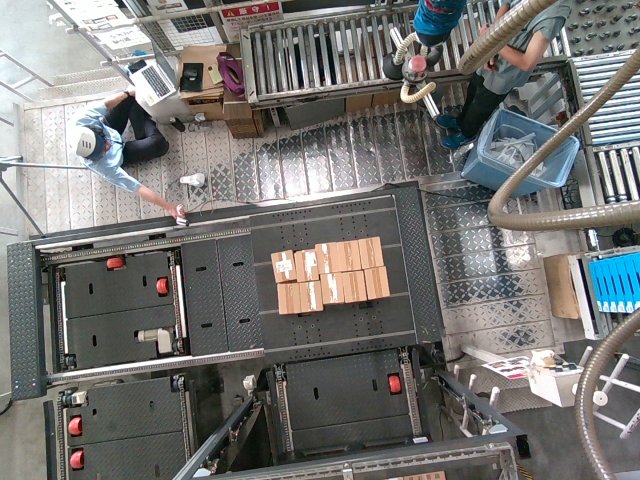box: (270, 251, 293, 283), (295, 250, 318, 282), (276, 281, 299, 313), (298, 279, 321, 311), (319, 270, 342, 302), (342, 271, 365, 303), (364, 266, 387, 298), (358, 236, 381, 268), (333, 238, 356, 270)
